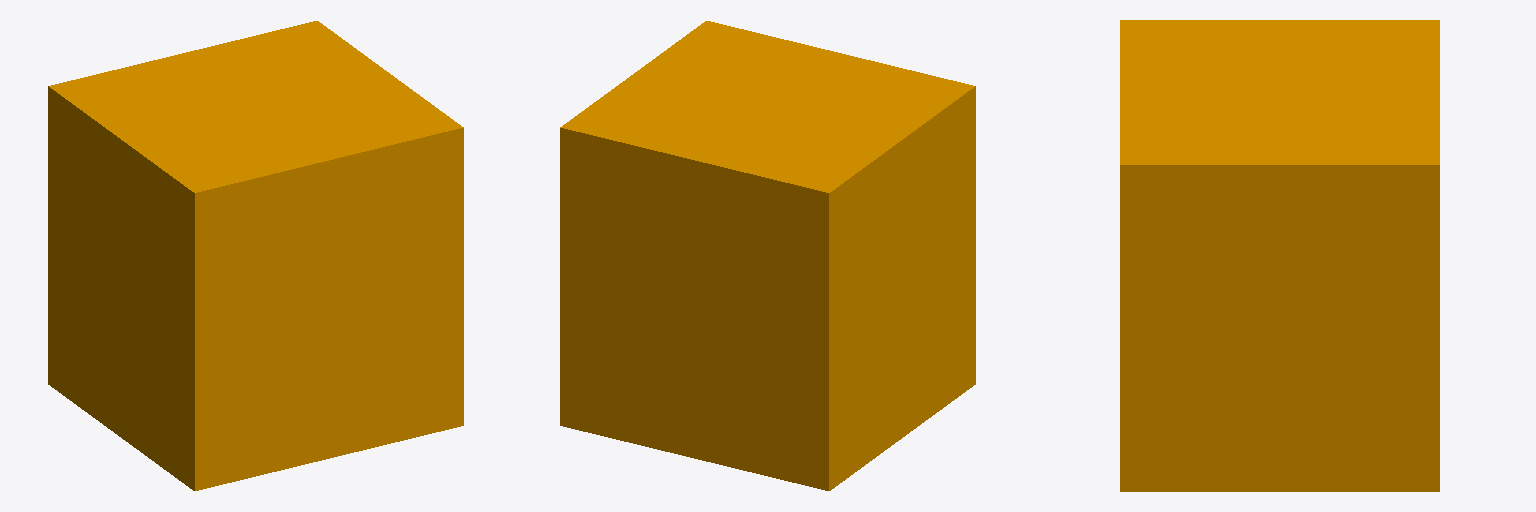
robot.urdf — 2x2:
<?xml version='1.0' encoding='UTF-8'?>
<robot name="2x2">
  <link name="base_link">
    <inertial>
      <origin xyz="0.0 0.0 0.0" rpy="0.0 0.0 0.0"/>
      <mass value="0.1"/>
      <inertia ixx="0.1" ixy="0.0" ixz="0.0" iyy="0.1" iyz="0.0" izz="0.1"/>
    </inertial>
    <visual>
      <geometry>
        <box size="0.017 0.016 0.018"/>
      </geometry>
      <material name=""/>
      <origin xyz="0.0 0.0 0.0" rpy="0.0 0.0 0.0"/>
    </visual>
    <collision>
      <geometry>
        <box size="0.017 0.016 0.018"/>
      </geometry>
      <origin xyz="0.0 0.0 0.0" rpy="0.0 0.0 0.0"/>
    </collision>
  </link>
  <material name="">
    <color rgba="0.0288  0.28149 0.71274 1.     "/>
  </material>
  <contact>
    <lateral_friction value="1.0"/>
    <rolling_friction value="0.0"/>
    <contact_cfm value="0.0"/>
    <contact_erp value="1.0"/>
  </contact>
</robot>

--- Render facts (derived) ---
The picture shows the robot from 3 angles, left to right: view 1: azimuth 30°, elevation 25°; view 2: azimuth 150°, elevation 25°; view 3: azimuth 270°, elevation 25°; orthographic projection.
Model 2x2 with 1 links and 0 joints (none), rooted at base_link, posed every joint at zero.
Visible links, largest first — view 1: base_link; view 2: base_link; view 3: base_link.
Boxes of the visible links, <box> form: base_link: <box>48,21,463,490</box>; base_link: <box>560,21,975,490</box>; base_link: <box>1120,20,1439,491</box>.
Size in the robot's own frame: 0.017 by 0.016 by 0.018 metres.
Geometry: primitives only (box / cylinder / sphere), no mesh files.